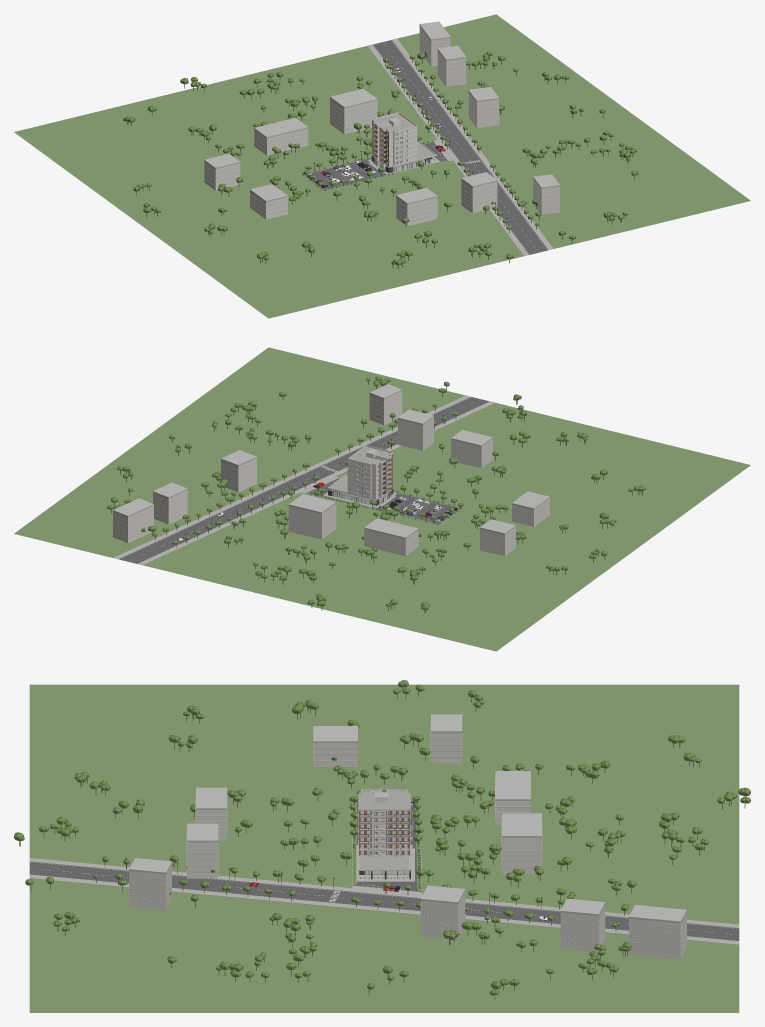
Rendered from proje_detay.glb.
3 views of the same model, one above another, from view 1: azimuth 30°, elevation 25°; view 2: azimuth 150°, elevation 25°; view 3: azimuth 270°, elevation 25° (orthographic). The views are drawn at different scales.
Visible parts, largest first — view 1: Arazi, Web_Agac_Tac, Odunluk_Caddesi, Kaldirimlar, Web_Agac_Govde, Cevre_Bina.009, Otopark_Asfalt, Cevre_Bina.005, Cevre_Bina.004, Cevre_Bina.008, Cevre_Bina.001, Cevre_Bina_Bant.009 (+11 smaller); view 2: Arazi, Web_Agac_Tac, Odunluk_Caddesi, Kaldirimlar, Cevre_Bina.009, Web_Agac_Govde, Cevre_Bina.003, Cevre_Bina.008, Otopark_Asfalt, Cevre_Bina.005, Cevre_Bina.001, Cevre_Bina.004 (+12 smaller); view 3: Arazi, Web_Agac_Tac, Odunluk_Caddesi, Kaldirimlar, Cevre_Bina.003, Web_Agac_Govde, Cevre_Bina.002, Cevre_Bina, Cevre_Bina.001, Cevre_Bina.009, Cevre_Bina_Bant.009, Cevre_Bina_Bant.008 (+18 smaller).
Part boxes in pixels (<box>): Arazi: <box>14,14,750,318</box>; Web_Agac_Tac: <box>123,51,638,265</box>; Odunluk_Caddesi: <box>373,40,548,254</box>; Kaldirimlar: <box>367,38,553,256</box>; Web_Agac_Govde: <box>127,56,634,268</box>; Cevre_Bina.009: <box>330,98,377,134</box>; Otopark_Asfalt: <box>310,141,447,189</box>; Cevre_Bina.005: <box>461,179,497,213</box>; Cevre_Bina.004: <box>396,197,437,226</box>; Cevre_Bina.008: <box>254,128,308,155</box>; Cevre_Bina.001: <box>468,91,499,127</box>; Cevre_Bina_Bant.009: <box>330,89,377,130</box>; Arazi: <box>14,347,750,651</box>; Web_Agac_Tac: <box>107,376,645,610</box>; Odunluk_Caddesi: <box>118,397,489,563</box>; Kaldirimlar: <box>113,395,495,565</box>; Cevre_Bina.009: <box>288,503,336,539</box>; Web_Agac_Govde: <box>111,381,642,613</box>; Cevre_Bina.003: <box>113,505,153,542</box>; Cevre_Bina.008: <box>364,529,418,556</box>; Otopark_Asfalt: <box>305,477,459,521</box>; Cevre_Bina.005: <box>398,417,433,450</box>; Cevre_Bina.001: <box>221,458,256,492</box>; Cevre_Bina.004: <box>451,439,492,468</box>; Arazi: <box>29,684,739,1012</box>; Web_Agac_Tac: <box>14,680,750,995</box>; Odunluk_Caddesi: <box>29,861,739,940</box>; Kaldirimlar: <box>29,858,739,944</box>; Cevre_Bina.003: <box>629,912,686,959</box>; Web_Agac_Govde: <box>19,687,745,999</box>; Cevre_Bina.002: <box>560,905,605,952</box>; Cevre_Bina: <box>129,864,171,910</box>; Cevre_Bina.001: <box>420,891,465,940</box>; Cevre_Bina.009: <box>502,837,541,873</box>; Cevre_Bina_Bant.009: <box>501,813,542,867</box>; Cevre_Bina_Bant.008: <box>495,771,530,819</box>.
Size of the model in its own units: 350 by 30.75 by 332.
